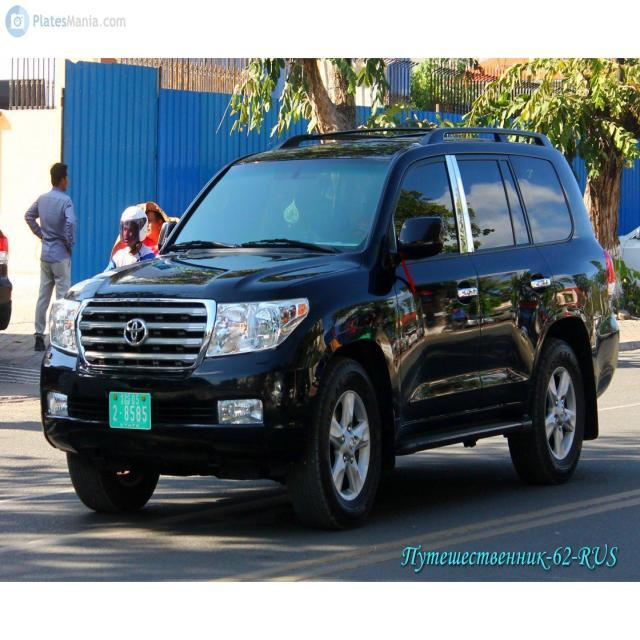State: (120, 393, 130, 406)
